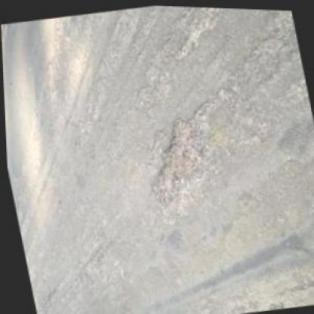Hueco: (143, 108, 209, 194)
